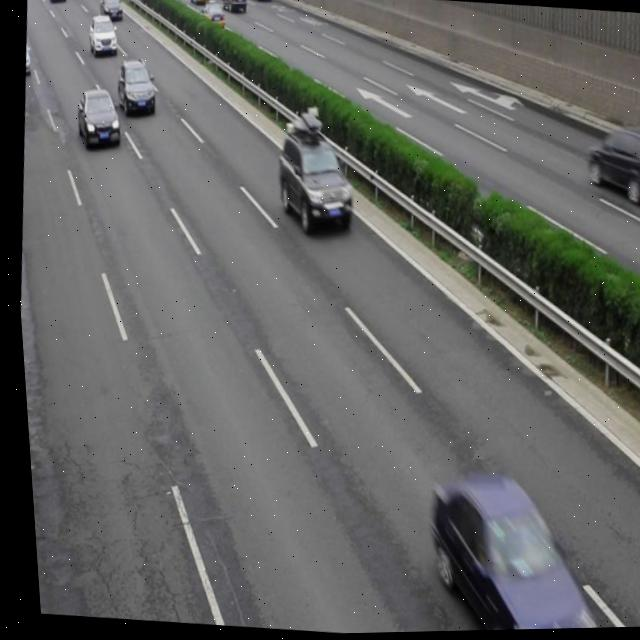car: (410, 464, 593, 633), (267, 111, 356, 237), (578, 123, 640, 209), (72, 86, 123, 152), (113, 56, 160, 119), (85, 12, 119, 60), (194, 0, 226, 32), (22, 33, 35, 76)
